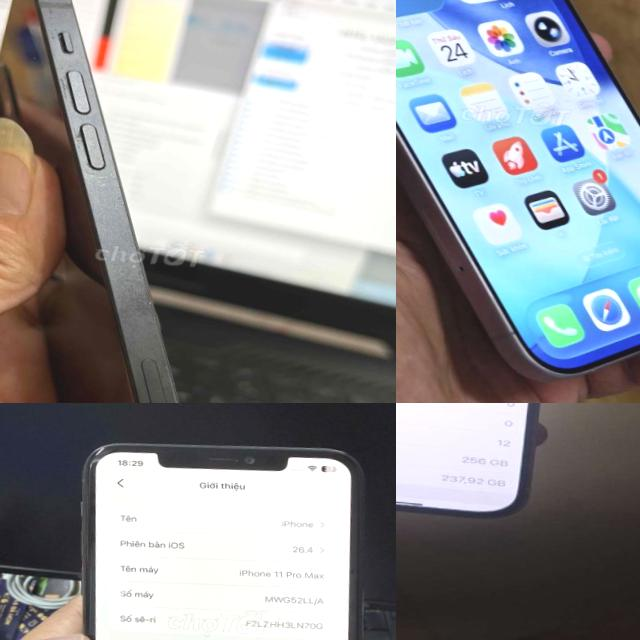scratch: (24, 0, 141, 205)
